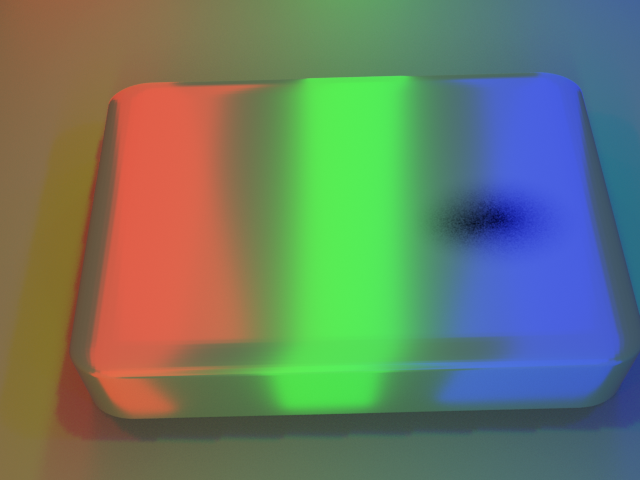stain: (370, 152, 616, 292)
